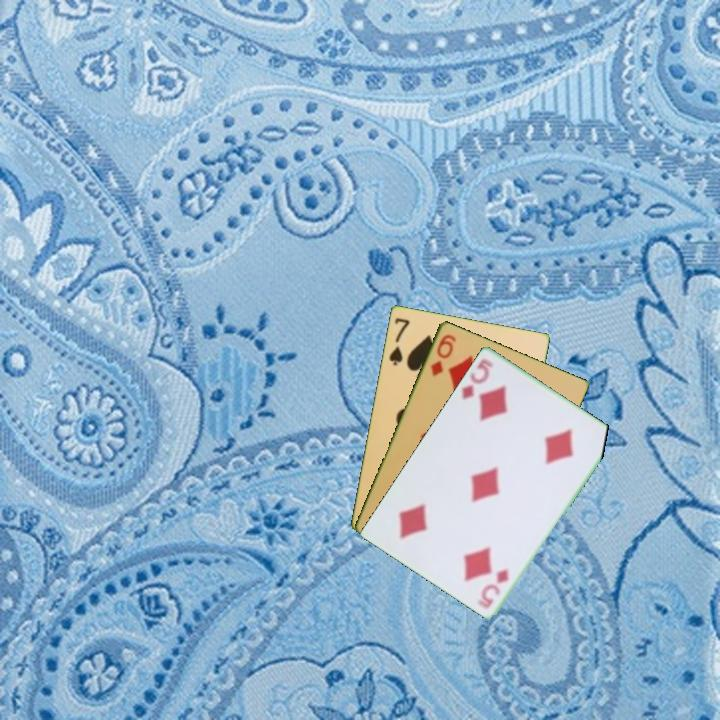5d: (458, 355, 496, 402), (475, 565, 512, 611)
6d: (427, 330, 459, 379)
7s: (385, 314, 412, 368)
